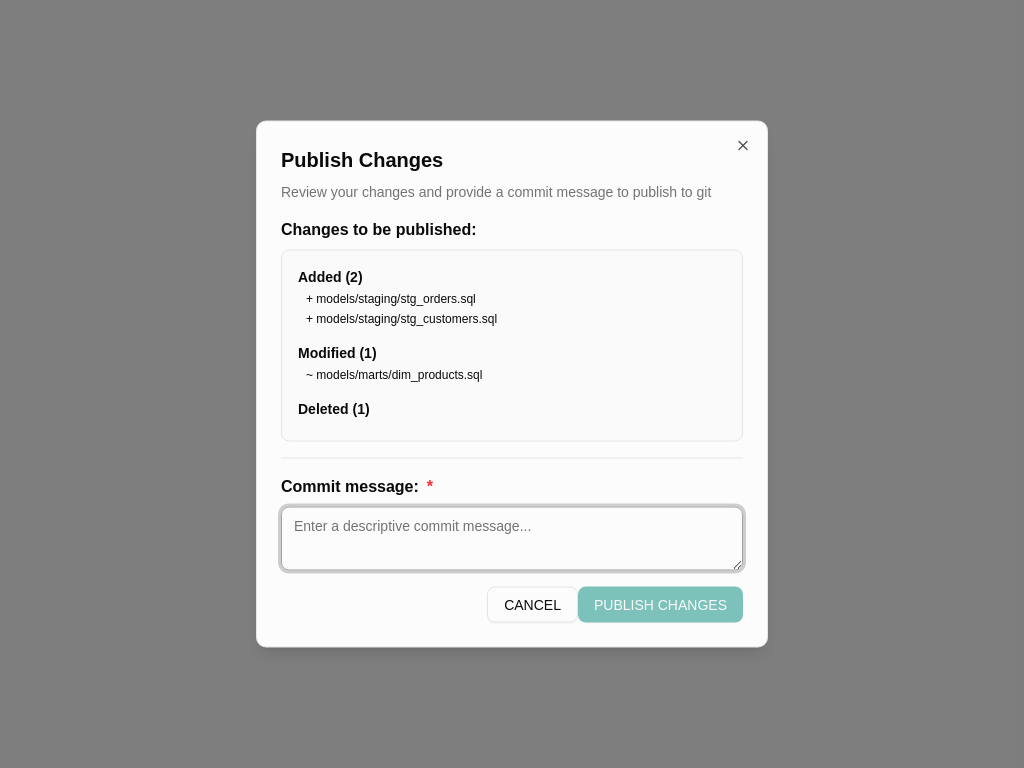
it: PublishModal › enables publish button when commit message is entered
Check: the text "Added (2)" is shown, box [298, 268, 363, 284]
In the text box with test id "commit-message-input": (512, 538) [281, 506, 743, 570], type "Add new staging models"
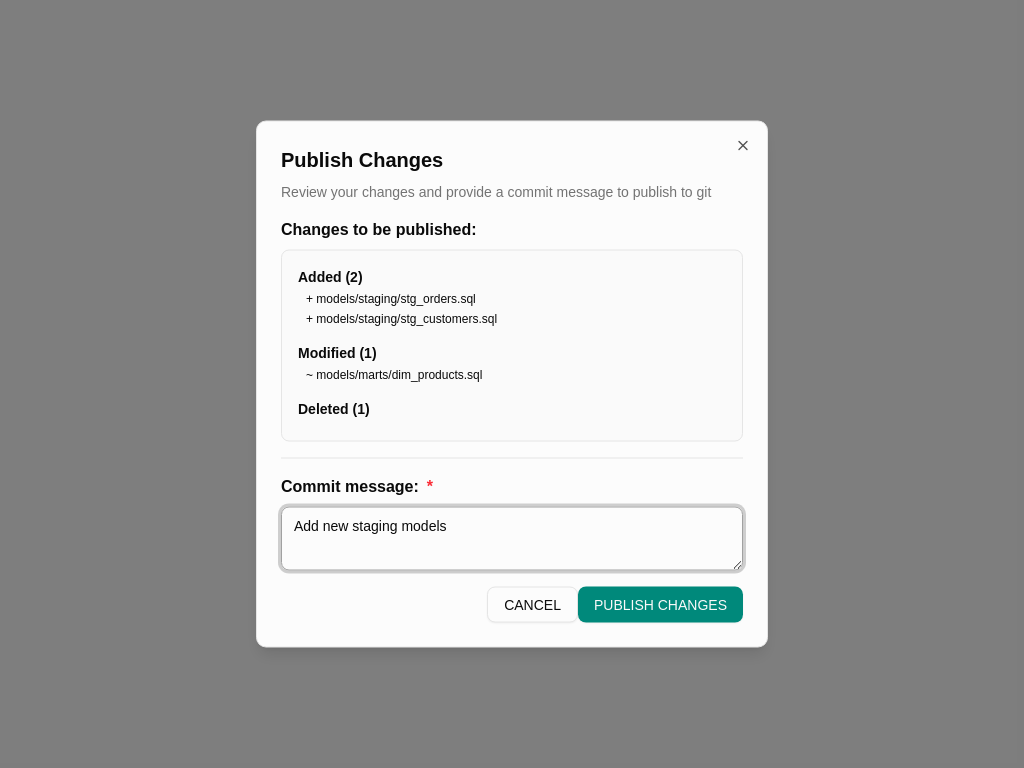
Check: the button with test id "publish-btn" is enabled, box [578, 586, 743, 622]
